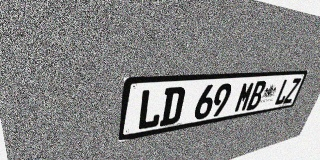6: (193, 84, 218, 120)
9: (209, 83, 233, 117)
B: (246, 80, 267, 111)
D: (159, 86, 186, 127)
L: (136, 88, 165, 131), (273, 79, 293, 106)
M: (233, 81, 256, 113)
Z: (283, 78, 302, 104)
